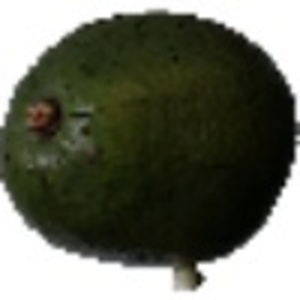abacate: (1, 11, 295, 263)
